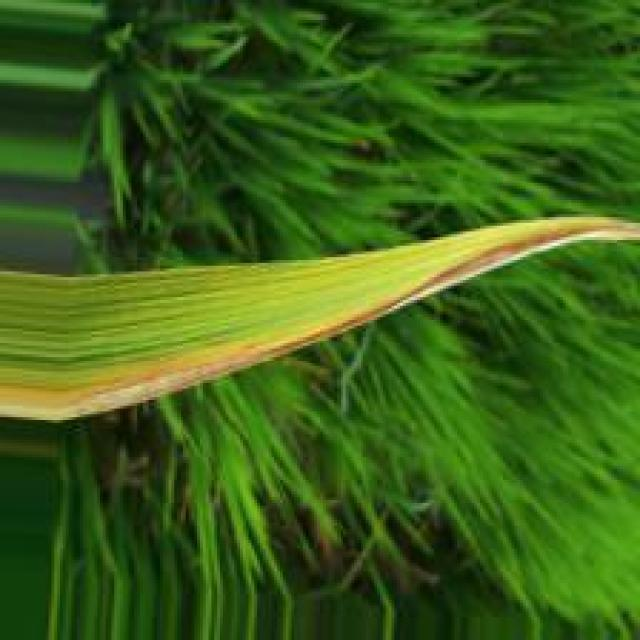Leaf_Scald: (362, 219, 640, 323), (0, 341, 286, 423)
